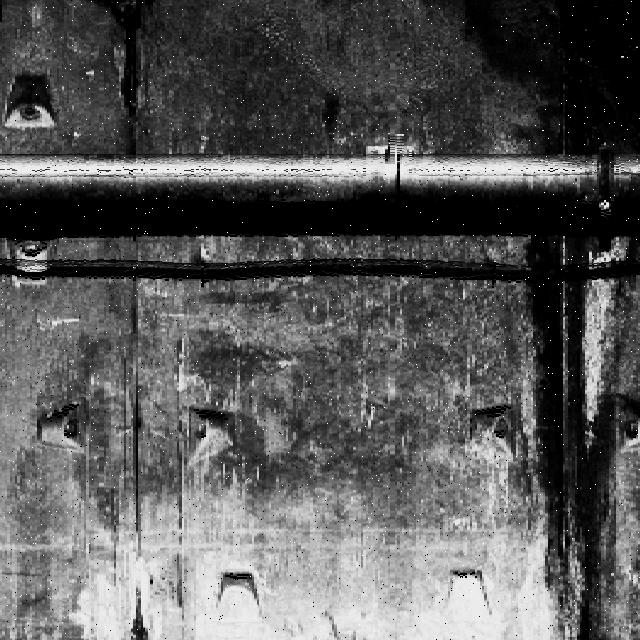leakage: (513, 231, 639, 640), (454, 1, 639, 157), (99, 1, 149, 119)
